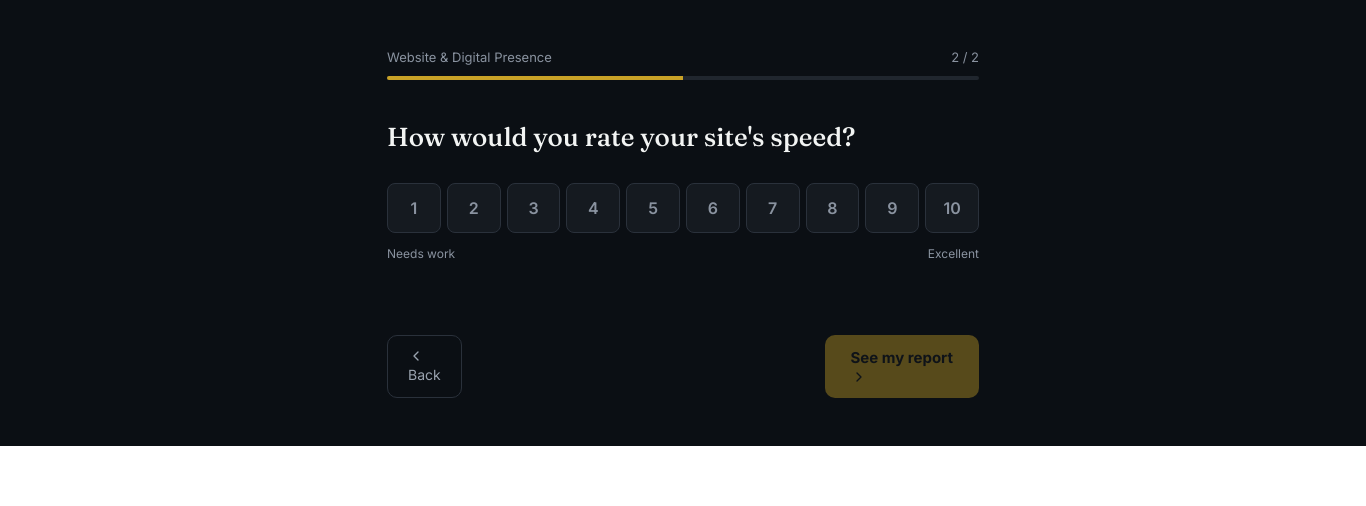
AuditApp — resuming a saved assessment › restores the previously selected option when stepping back
Check: the heading "How would you rate your site's speed?" is shown, box [387,120,856,152]
Click the button "Back": (424, 366) [387,335,462,398]
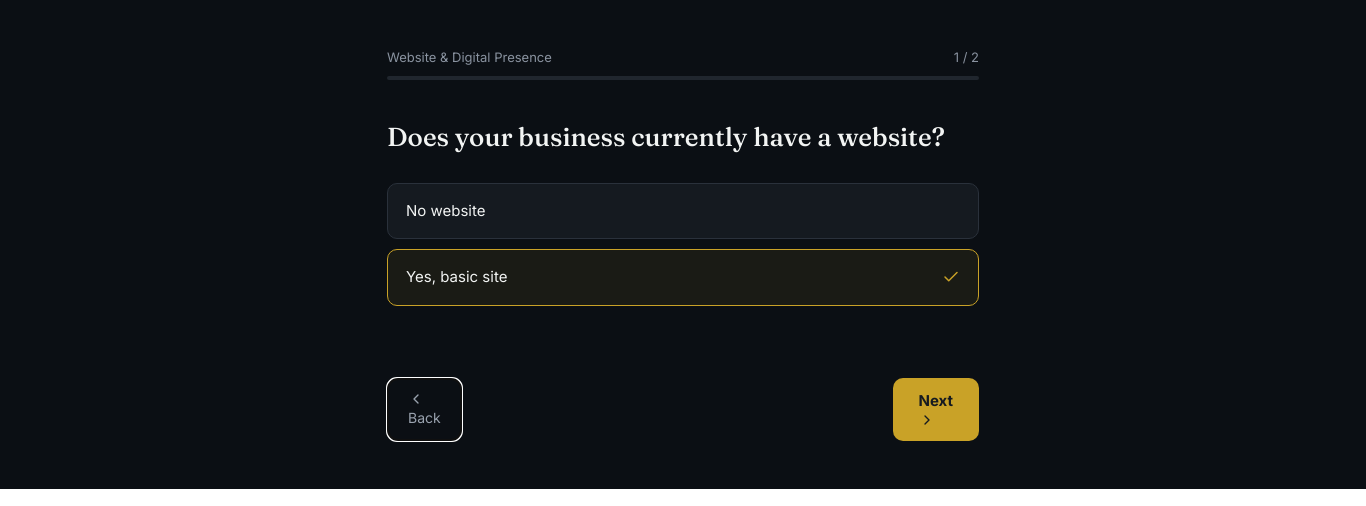
Check: the heading "Does your business currently have a website?" is shown, box [387,120,979,155]
